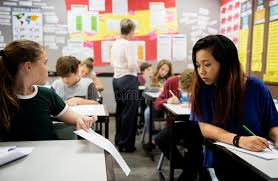student_copying: (1, 29, 144, 158), (169, 22, 258, 163)
